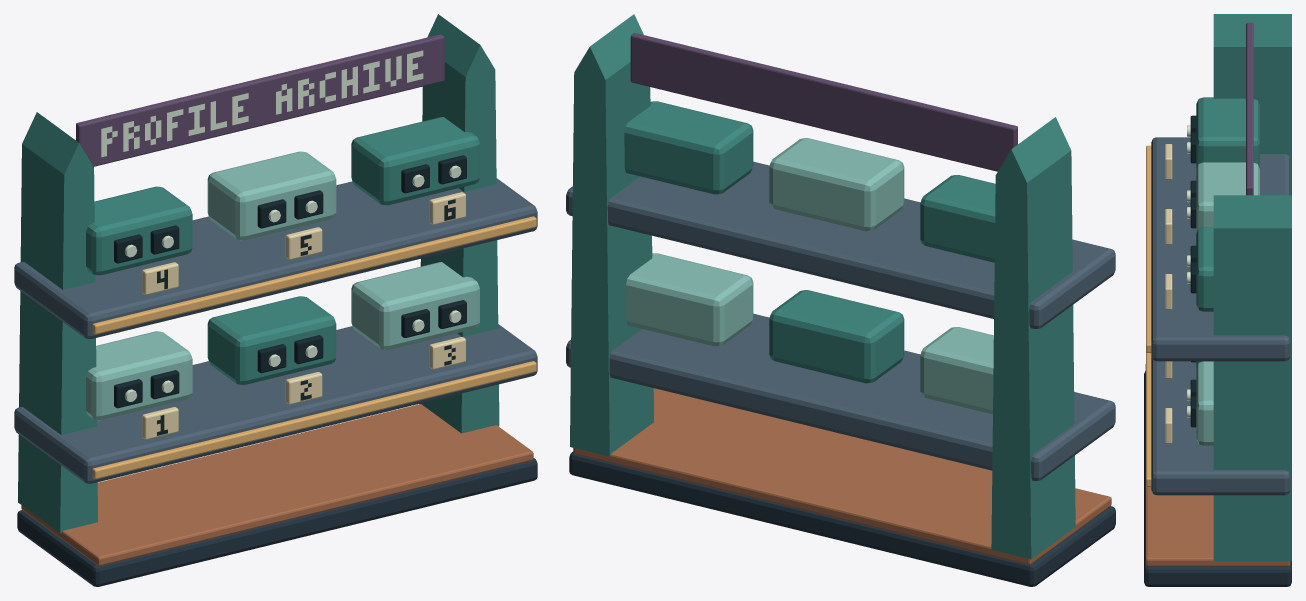
3 renders of one model, left to right at view 1: azimuth 30°, elevation 25°; view 2: azimuth 150°, elevation 25°; view 3: azimuth 270°, elevation 25°, orthographic. The views are drawn at different scales.
Visible parts, largest first — view 1: PR045 enamel and hardware; view 2: PR045 enamel and hardware; view 3: PR045 enamel and hardware.
Part boxes in pixels (<box>): PR045 enamel and hardware: <box>14,14,537,586</box>; PR045 enamel and hardware: <box>566,14,1115,586</box>; PR045 enamel and hardware: <box>1144,14,1291,586</box>.
Bounding box in the file's own units: 1.72 × 1.5 × 0.524.
